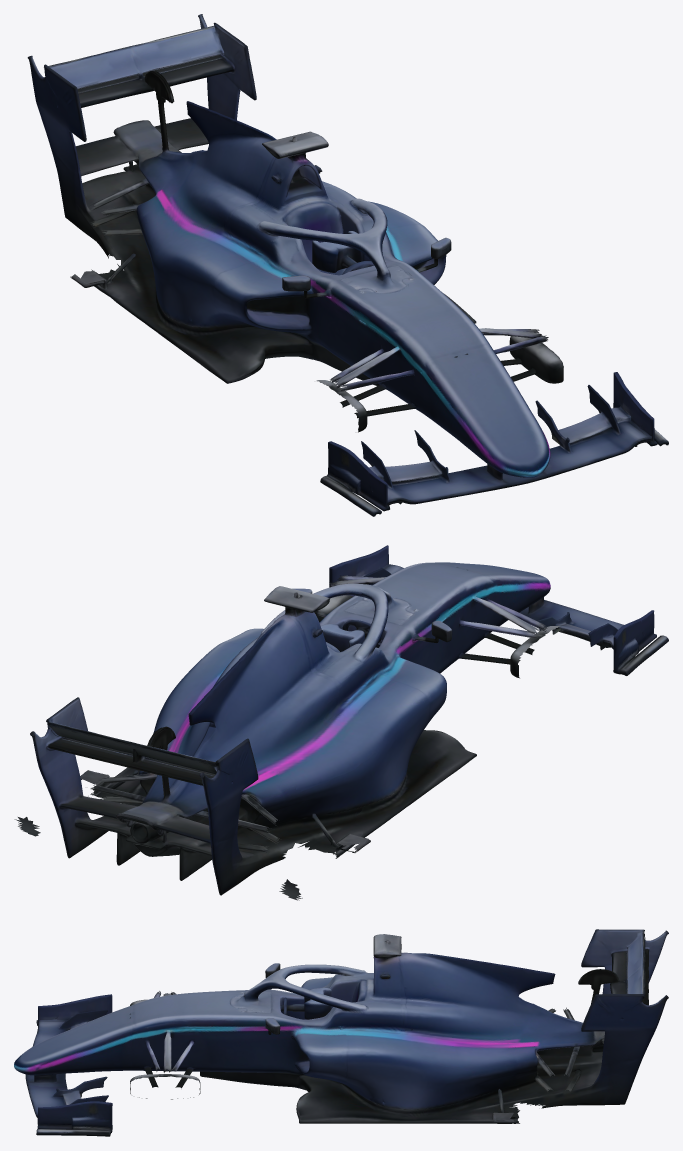
The model's file is car.glb.
The picture shows the model from 3 angles, top to bottom: view 1: azimuth 30°, elevation 25°; view 2: azimuth 150°, elevation 25°; view 3: azimuth 270°, elevation 25°; orthographic projection. The views are drawn at different scales.
Visible parts, largest first — view 1: tripo_node_206cc279-294f-4f0e-ab09-304f0bb09378; view 2: tripo_node_206cc279-294f-4f0e-ab09-304f0bb09378; view 3: tripo_node_206cc279-294f-4f0e-ab09-304f0bb09378.
Part boxes in pixels (x1=…): tripo_node_206cc279-294f-4f0e-ab09-304f0bb09378: x1=27, y1=14, x2=668, y2=516; tripo_node_206cc279-294f-4f0e-ab09-304f0bb09378: x1=14, y1=545, x2=668, y2=900; tripo_node_206cc279-294f-4f0e-ab09-304f0bb09378: x1=14, y1=929, x2=668, y2=1136.
Size of the model in its own units: 1.59 by 0.8921 by 3.77.
Materials: 1 (1 with a texture image).
